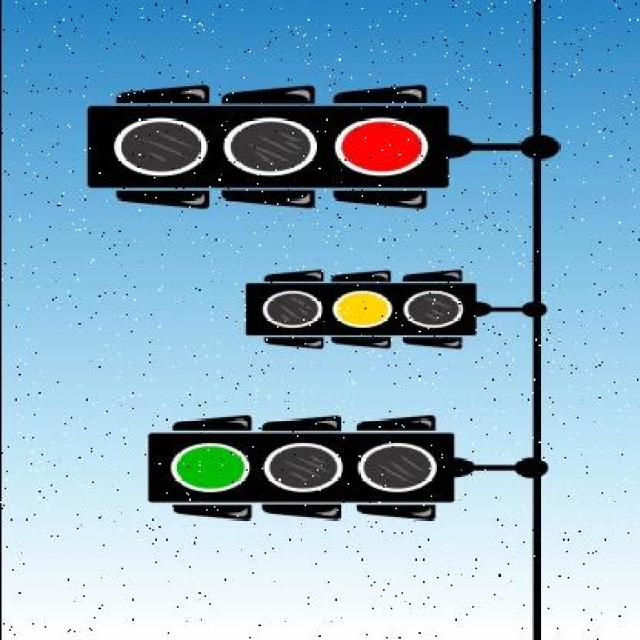green-light: (138, 417, 468, 522)
red-light: (69, 84, 471, 210)
yellow-light: (232, 270, 514, 355)
